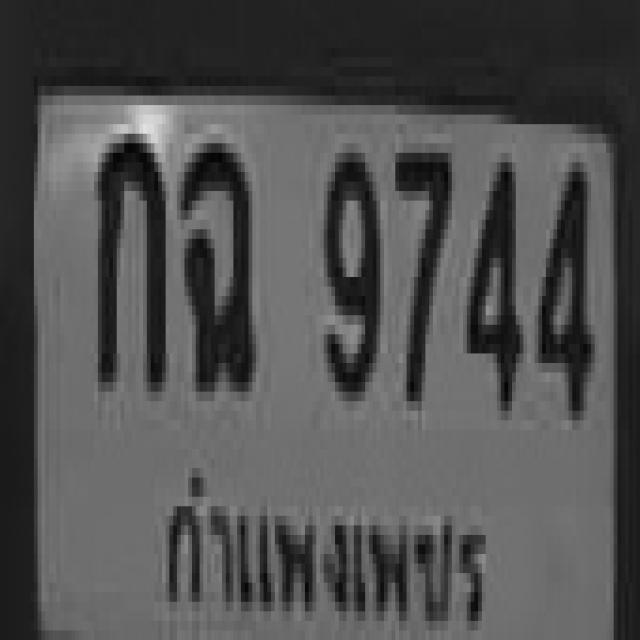10GorGai: (94, 124, 162, 382)
18ChorChing: (177, 134, 252, 382)
4: (463, 153, 520, 401), (535, 153, 587, 411)
7: (392, 143, 448, 392)
9: (320, 143, 376, 392)
KamphaengPhet: (152, 449, 496, 640)
